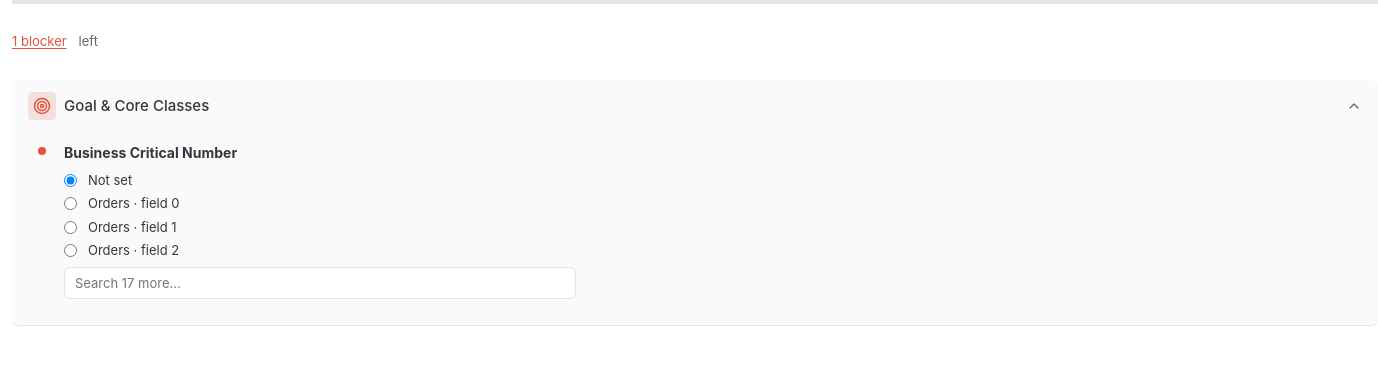
Test: a long option list gets a search › typing filters by label, Enter stages the pick, the picked option shows checked
This screenshot has width=1378, height=366.
Later steps or results of the test are not shown.
Type "gross" into the dropdown.
click(320, 282); type("gross")  # box [64,266,576,298]
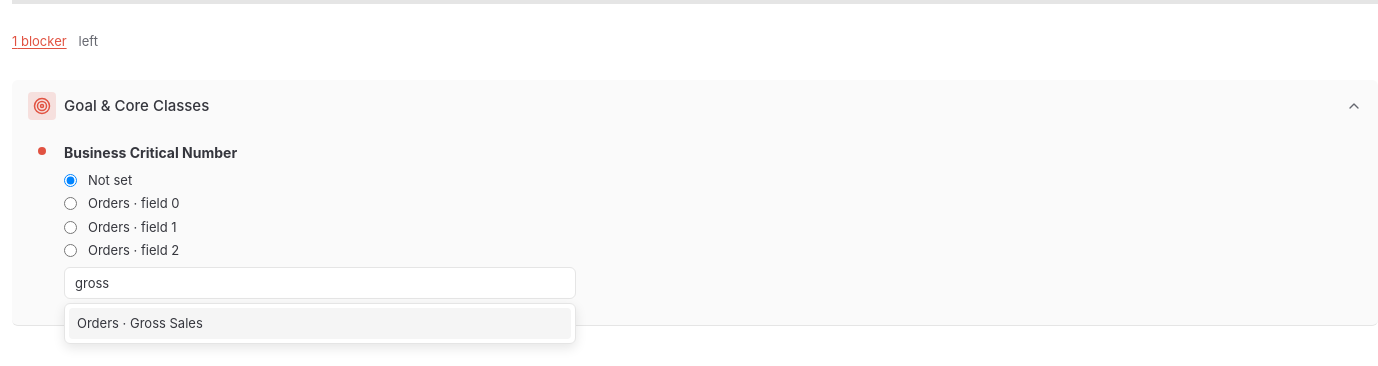
Expected: the options read "Orders · Gross Sales", in this order, [69,308,571,339]
Press Enter in the dropdown, box [64,266,576,298]
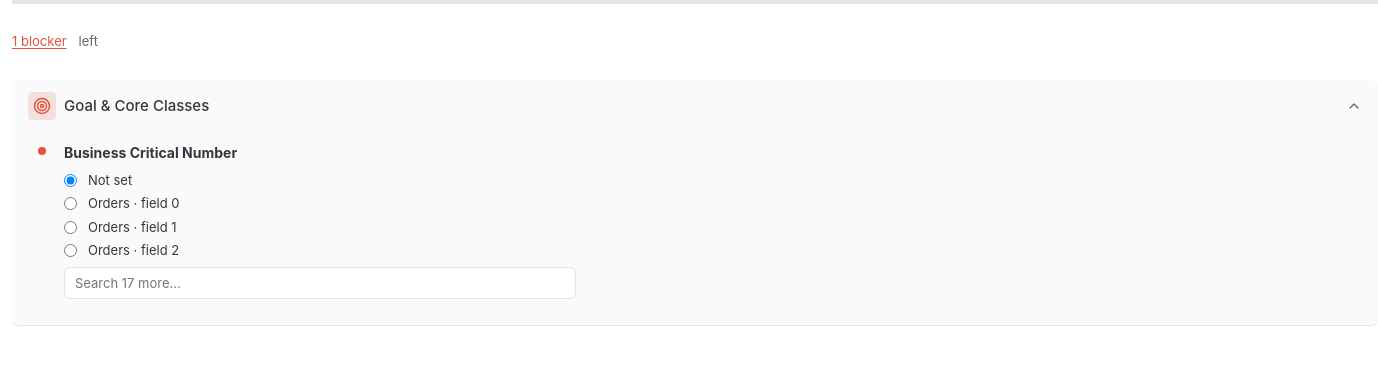
Expected: the dropdown is empty, [64,266,576,298]
